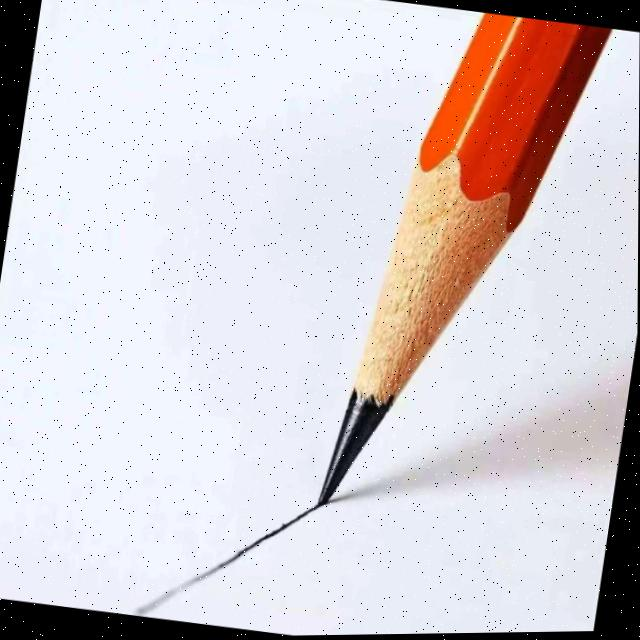pencil: (305, 15, 621, 528)
